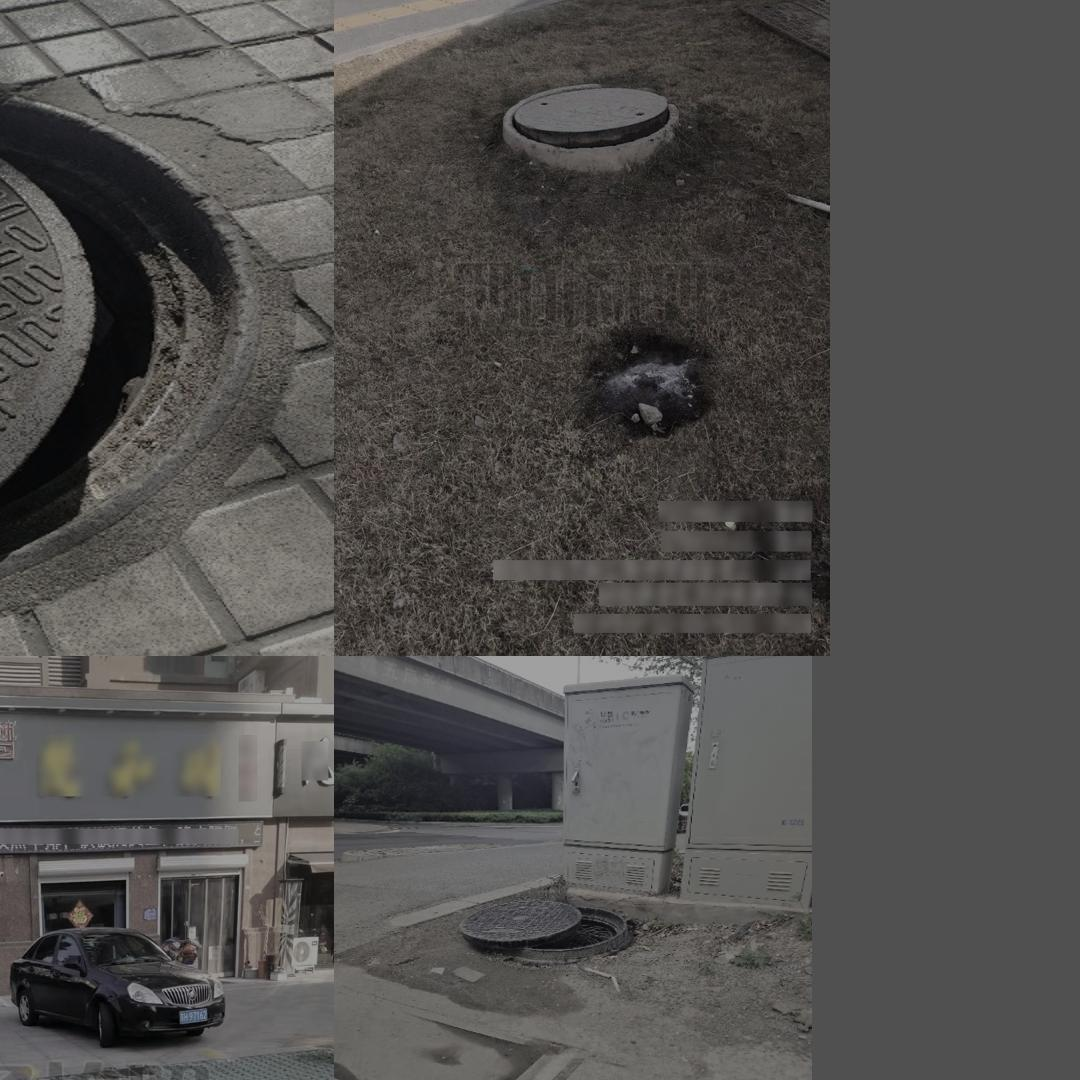uncovered: (0, 76, 266, 656), (504, 83, 677, 158), (462, 899, 627, 959)
